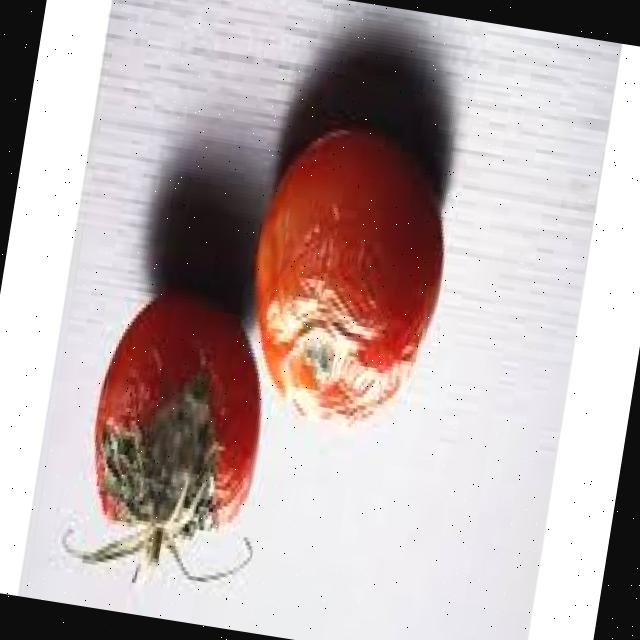Rotten: (78, 284, 280, 562)
overripe: (233, 112, 468, 438)
